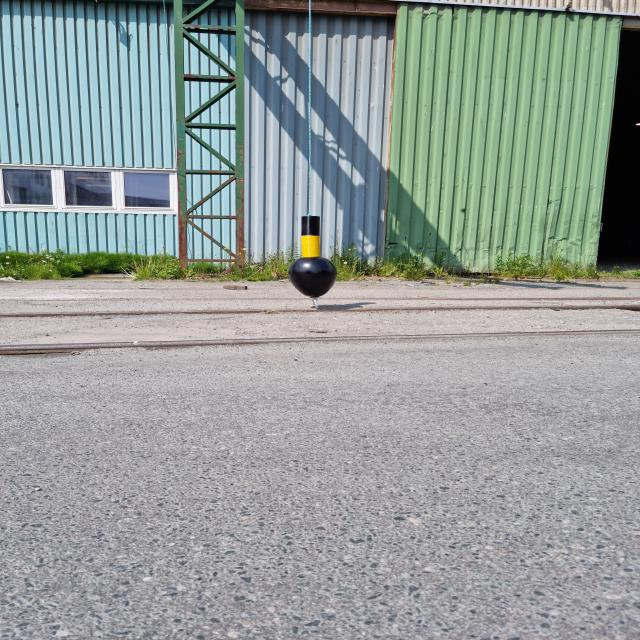east: (290, 217, 338, 299)
